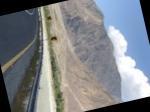right_turn: (23, 99, 122, 112)
